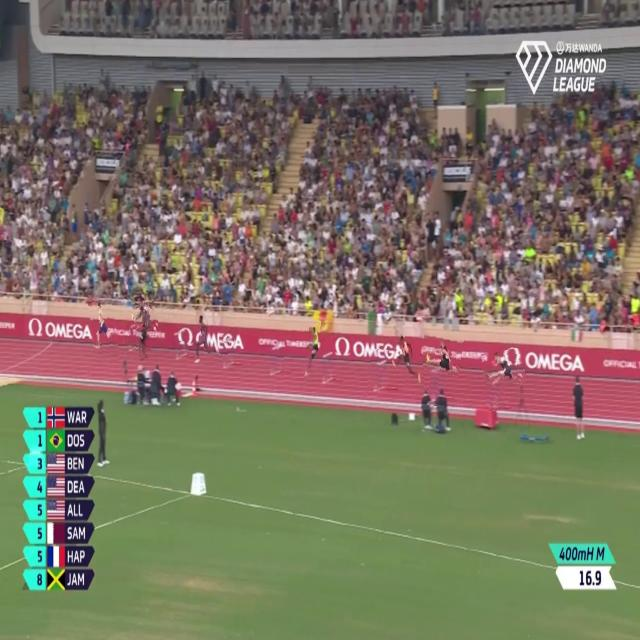athlete: (387, 325, 424, 391), (90, 298, 118, 363), (192, 308, 219, 374), (421, 334, 463, 376), (482, 350, 525, 386), (130, 283, 157, 330), (305, 320, 319, 388), (137, 305, 150, 358)
hurdle: (368, 350, 388, 398), (428, 367, 448, 407), (268, 336, 284, 383), (219, 334, 236, 369), (128, 322, 144, 358), (320, 351, 336, 387), (486, 374, 501, 411), (172, 331, 189, 363)
